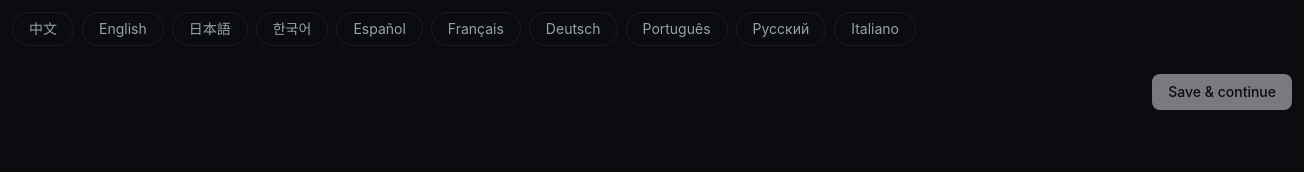
Scenario: StepLanguage › 首选 zh → UI 即时切中文（setLang 联动）
This screenshot has width=1304, height=172.
Click the button "中文" at (43, 29), box top-left (12, 12), bottom-right (74, 46)
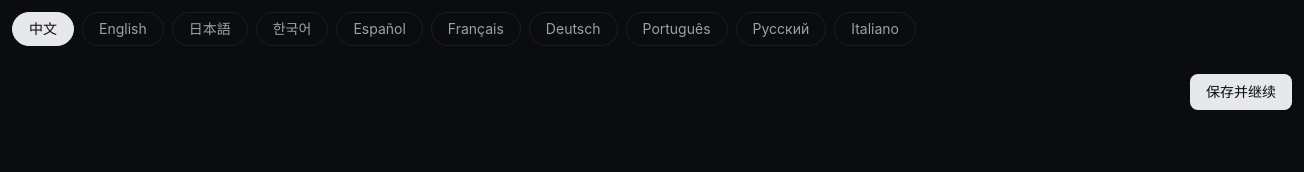
Expected: the button "保存并继续" is enabled, top-left (1190, 74), bottom-right (1292, 110)
